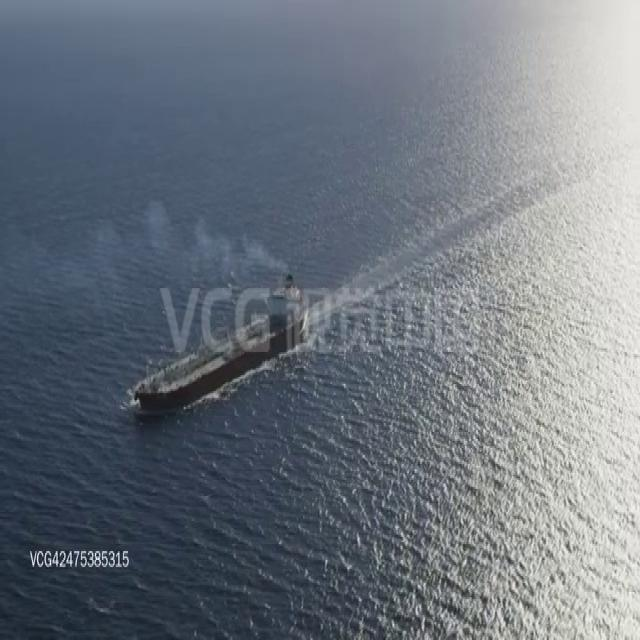cargoship: (124, 269, 308, 413)
